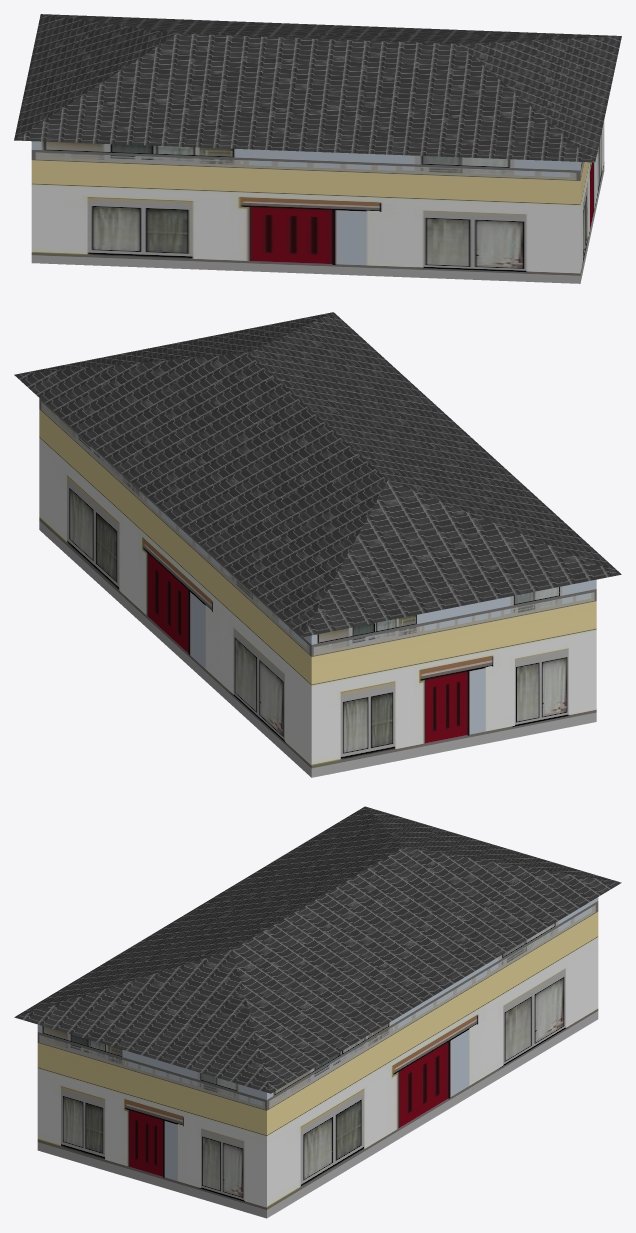
3 views of the same model, one above another, from view 1: azimuth 30°, elevation 25°; view 2: azimuth 150°, elevation 25°; view 3: azimuth 270°, elevation 25° (orthographic). The views are drawn at different scales.
Visible parts, largest first — view 1: CityEngineMaterial_16_m, CityEngineMaterial_15_m; view 2: CityEngineMaterial_16_m, CityEngineMaterial_15_m; view 3: CityEngineMaterial_16_m, CityEngineMaterial_15_m.
Part boxes in pixels (box(x1,y1,x2,y2)): CityEngineMaterial_16_m: box(14, 14, 621, 162); CityEngineMaterial_15_m: box(31, 120, 604, 283); CityEngineMaterial_16_m: box(14, 312, 621, 637); CityEngineMaterial_15_m: box(39, 398, 596, 777); CityEngineMaterial_16_m: box(14, 806, 621, 1093); CityEngineMaterial_15_m: box(37, 897, 598, 1218).
Bounding box in the file's own units: 37.54 × 11.37 × 33.57.
